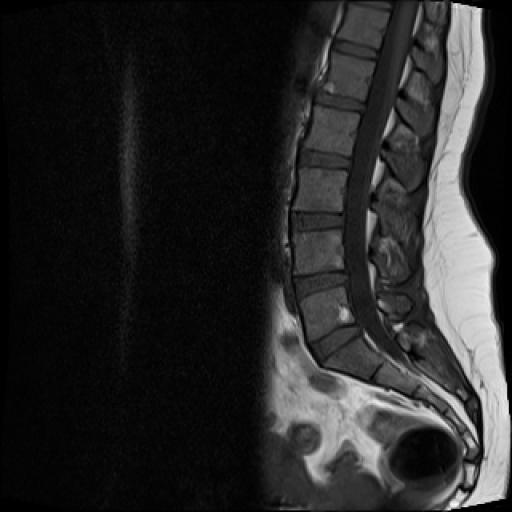L1: (323, 51, 375, 100)
L2: (304, 105, 360, 156)
L3: (292, 168, 347, 212)
L4: (294, 229, 344, 274)
L5: (299, 286, 355, 340)
S1: (323, 336, 383, 380)
